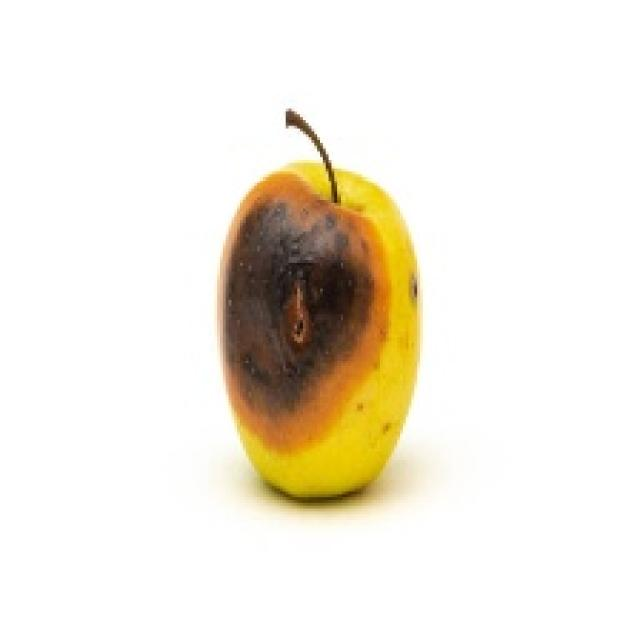rotten_apple: (220, 168, 421, 498)
